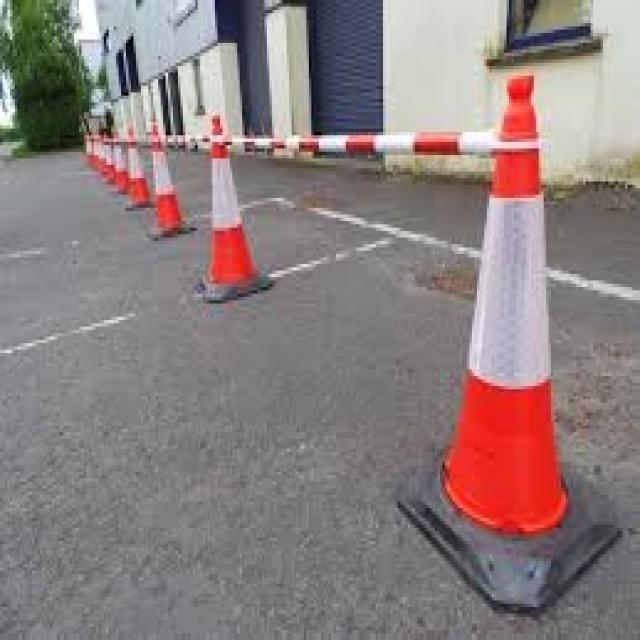Traffic-cone: (428, 54, 627, 618), (195, 105, 282, 305), (147, 111, 186, 242), (128, 124, 146, 213), (111, 127, 128, 191), (101, 133, 114, 182), (90, 133, 102, 175), (84, 135, 91, 167)
